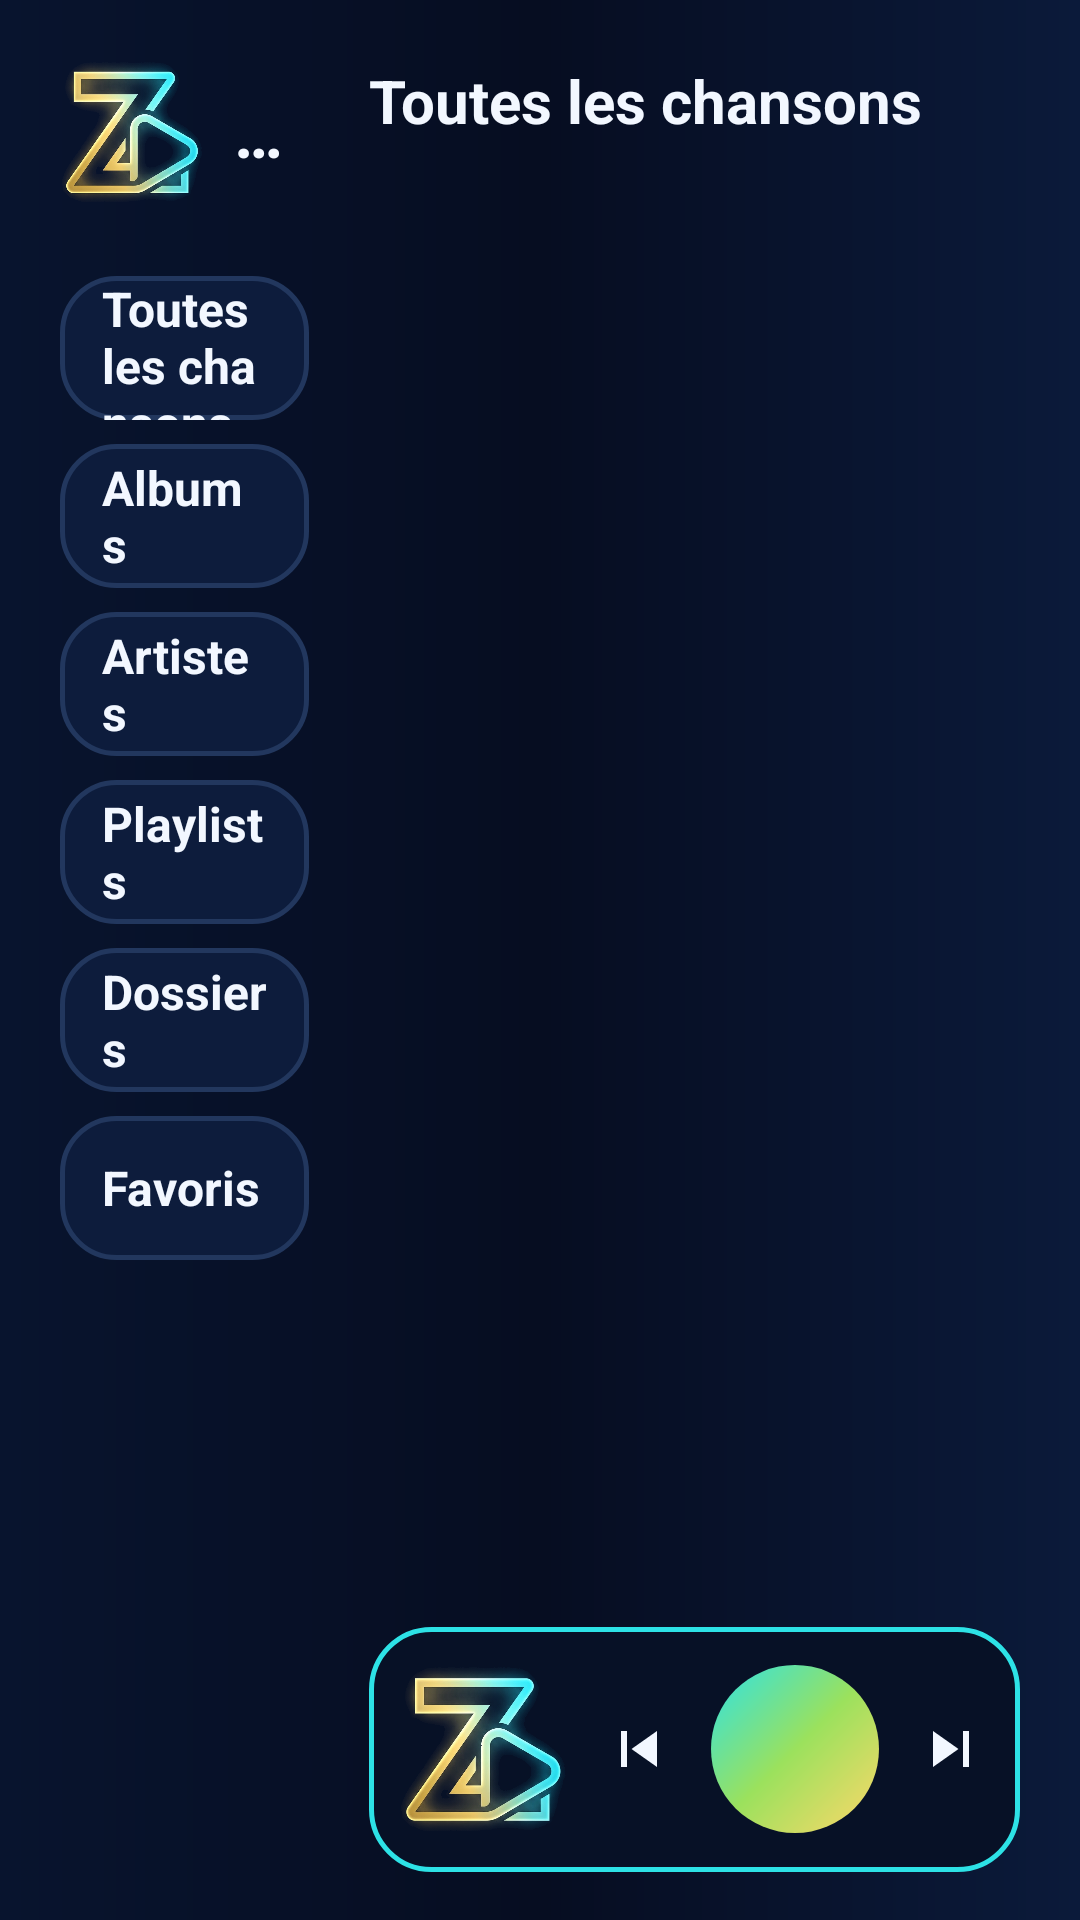

Locate icon controls on the screen. Image size 1080x1920, boxes as (x1, y1, x2, y2).
Précédent: (621, 1731, 657, 1767)
